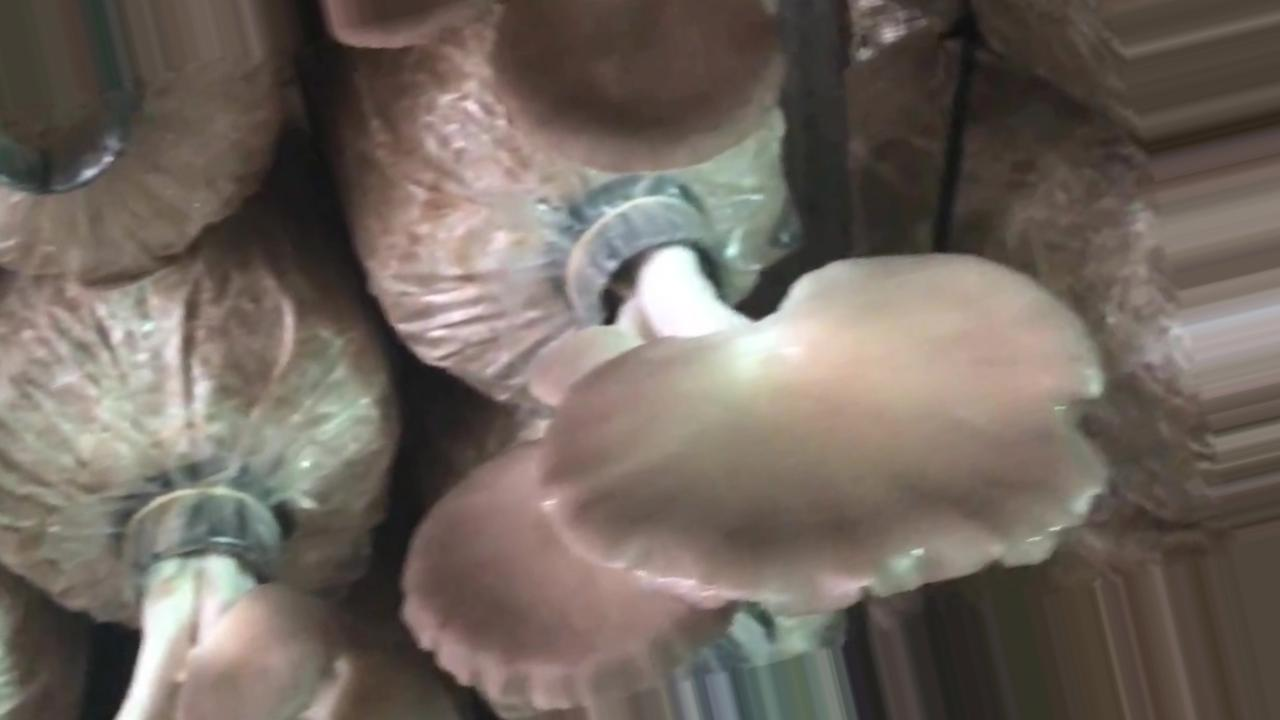nam: (538, 185, 1109, 612), (395, 437, 743, 720), (488, 1, 795, 175)
